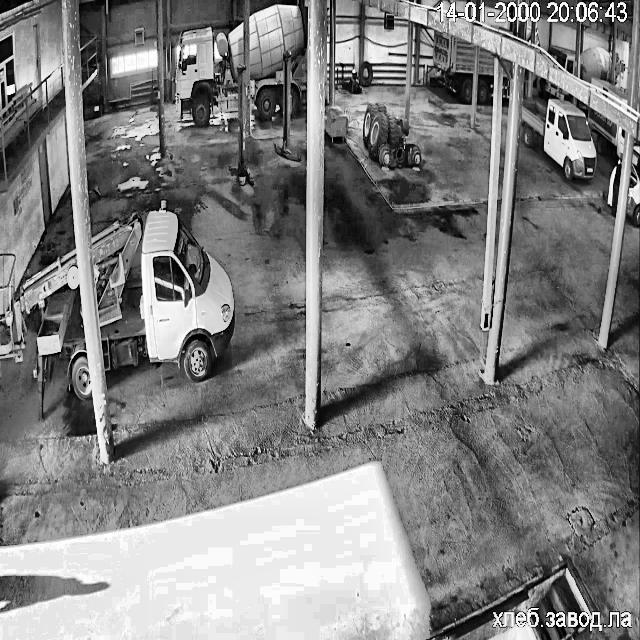mechanic: (612, 160, 620, 216)
truck: (93, 202, 233, 380), (176, 4, 306, 124), (0, 251, 91, 397), (522, 100, 596, 178), (433, 30, 473, 102), (588, 108, 623, 154), (580, 46, 611, 83), (626, 145, 640, 226), (477, 49, 494, 102), (591, 77, 626, 101), (548, 45, 574, 74), (536, 77, 566, 99), (604, 166, 616, 205), (501, 60, 510, 96), (40, 375, 43, 406), (616, 58, 621, 76), (612, 207, 616, 213)
